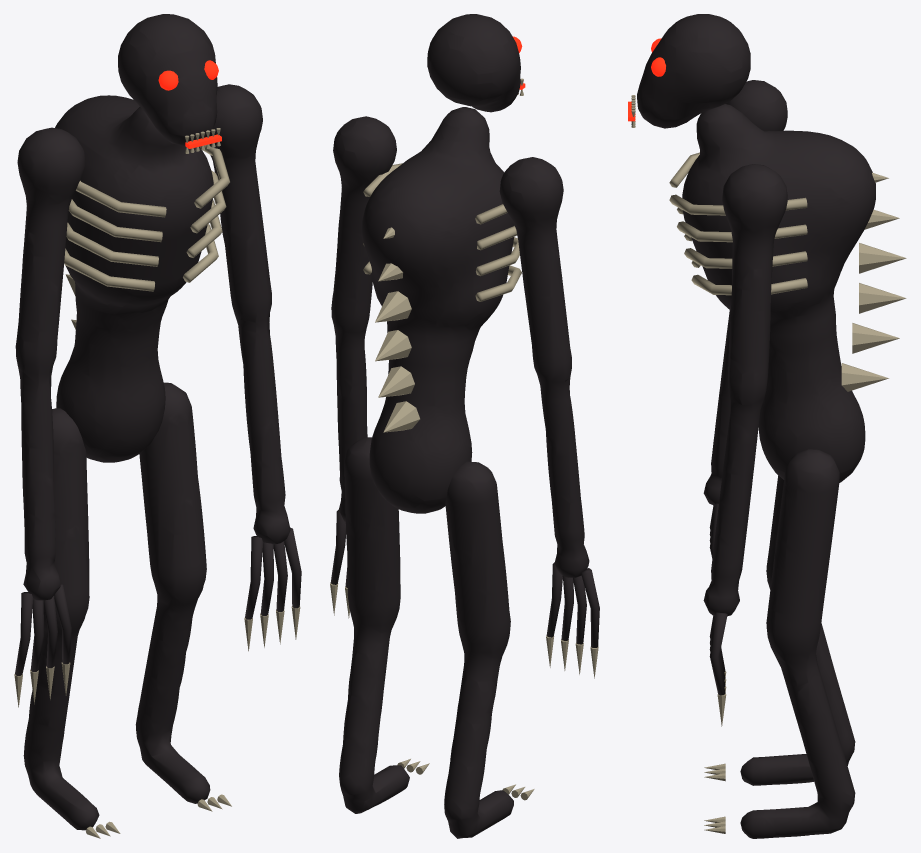
File: stalker.glb
3 views of the same model, side by side, from view 1: azimuth 30°, elevation 25°; view 2: azimuth 150°, elevation 25°; view 3: azimuth 270°, elevation 25° (orthographic). The views are drawn at different scales.
Parts seen in each view (by area): view 1: torso_mesh, arm_0_mesh, arm_1_mesh, leg_1_mesh, leg_0_mesh, head_mesh; view 2: torso_mesh, arm_0_mesh, leg_0_mesh, leg_1_mesh, arm_1_mesh, head_mesh; view 3: torso_mesh, leg_1_mesh, arm_1_mesh, head_mesh, leg_0_mesh, arm_0_mesh.
Boxes of the visible parts, x1,y1,x2,y2 form: torso_mesh: (55,95,229,462); arm_0_mesh: (14,127,85,707); arm_1_mesh: (209,84,301,651); leg_1_mesh: (135,382,231,811); leg_0_mesh: (23,408,120,838); head_mesh: (118,14,221,153); torso_mesh: (362,107,521,513); arm_0_mesh: (499,157,599,678); leg_0_mesh: (444,461,534,838); leg_1_mesh: (339,437,429,813); arm_1_mesh: (330,116,396,618); head_mesh: (427,14,525,112); torso_mesh: (669,104,906,482); leg_1_mesh: (704,449,855,838); arm_1_mesh: (703,164,787,726); head_mesh: (628,14,750,128); leg_0_mesh: (704,475,855,785); arm_0_mesh: (703,80,787,558).
Bounding box in the file's own units: 0.868 × 2.38 × 0.7576.
